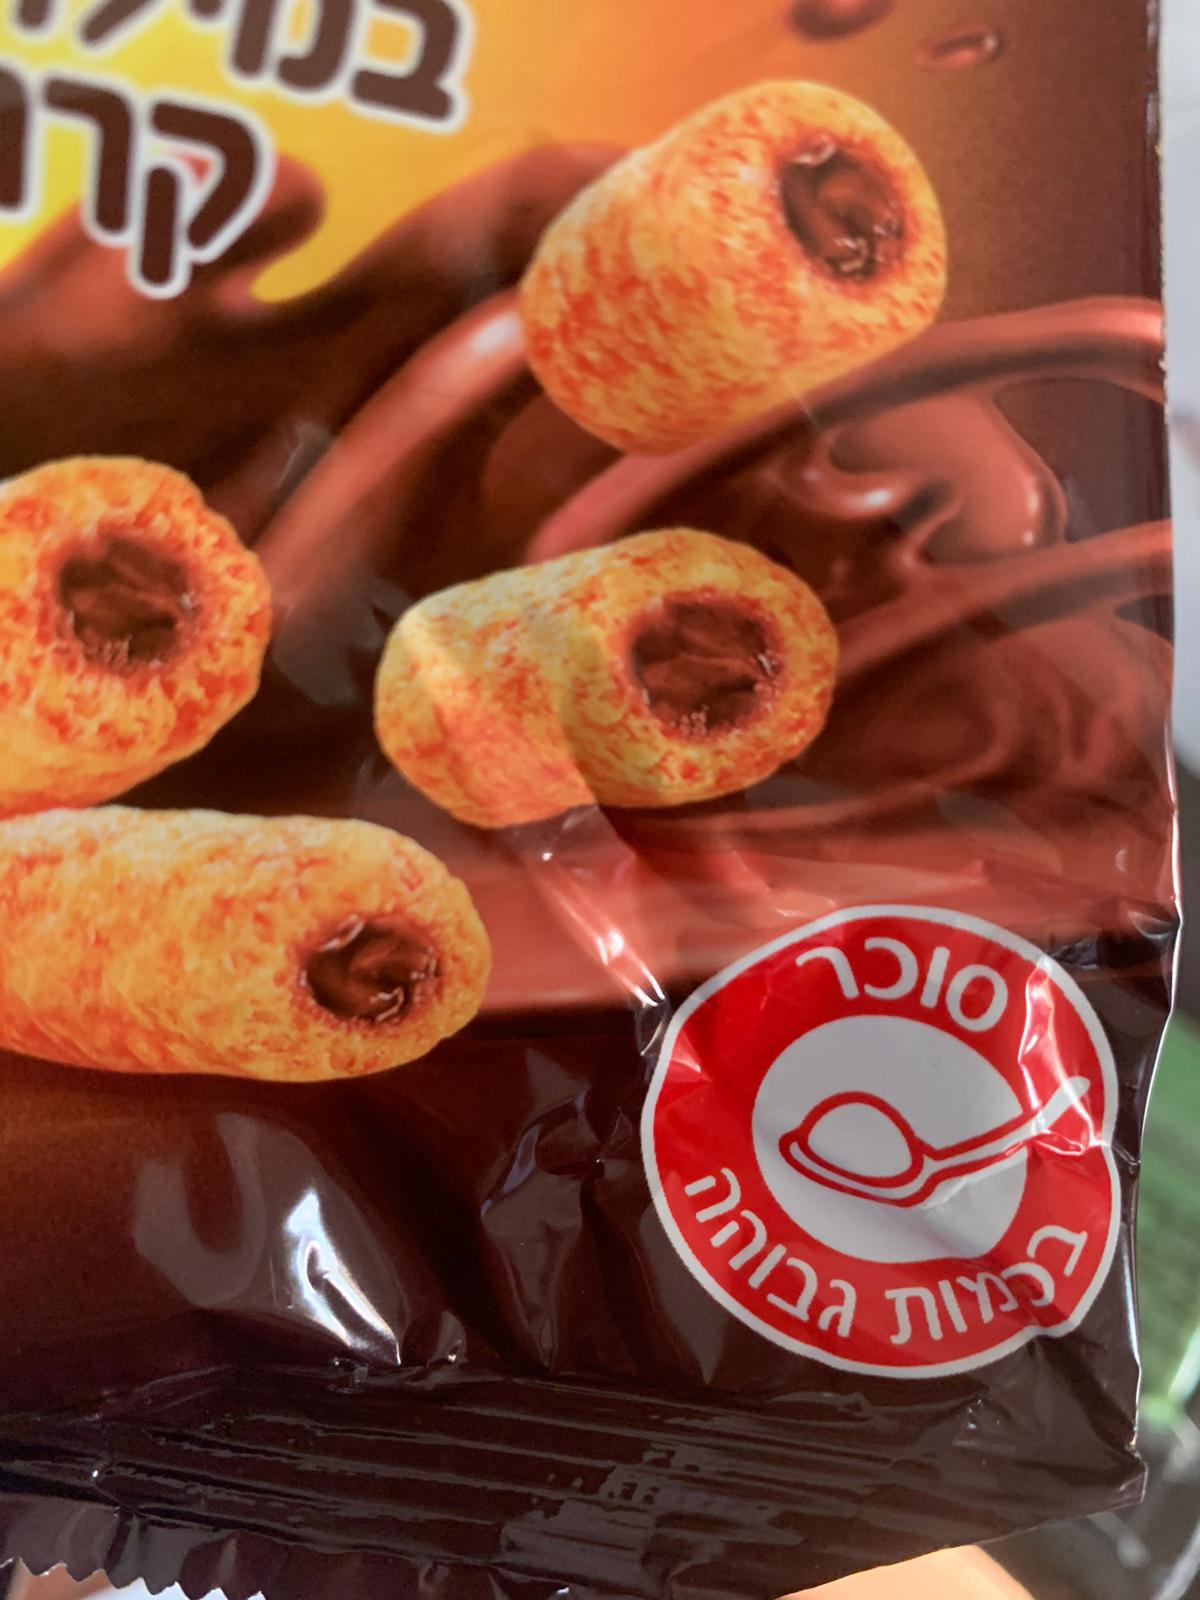sugar: (642, 901, 1127, 1393)
